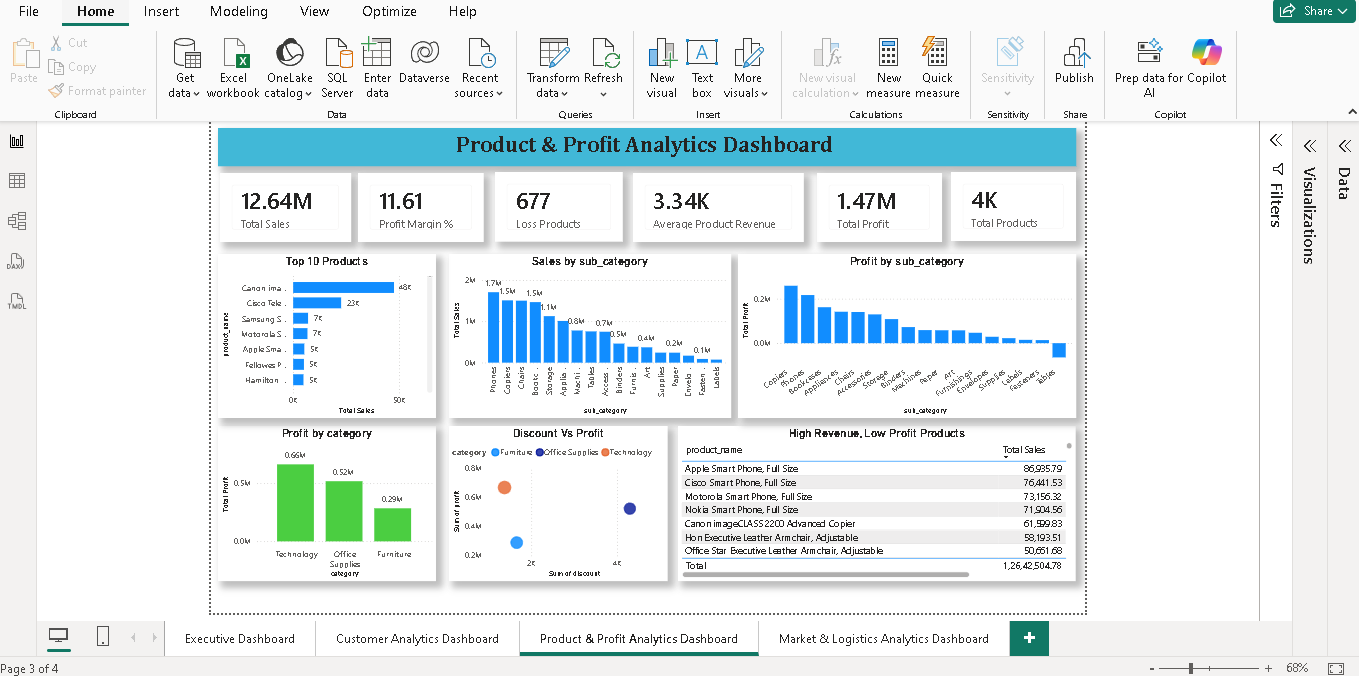

The dashboard page shown, as its layout file describes it:
{"tool":"powerbi","page":{"name":"Product & Profit Analytics Dashboard    ","canvas":[1280,720],"ordinal":2},"visuals":[{"type":"textbox","box":[10.2,10.2,1255.6,55.6],"z":0},{"type":"cardVisual","fields":{"Data":["Measures (2).Total Sales"]},"box":[13.2,76.1,191.7,101],"z":1000},{"type":"cardVisual","fields":{"Data":["Measures (2).Total Profit"]},"box":[886.8,76.1,182.9,101],"z":2000},{"type":"cardVisual","fields":{"Data":["Measures (2).Total Products"]},"box":[1082.9,74.6,182.9,101],"z":3000},{"type":"cardVisual","fields":{"Data":["Measures (2).Profit Margin %"]},"box":[215.1,76.1,184.4,101],"z":4000},{"type":"cardVisual","fields":{"Data":["Measures (2).Loss Products"]},"box":[415.6,74.6,187.3,102.4],"z":5000},{"type":"cardVisual","fields":{"Data":["Measures (2).Average Product Revenue"]},"box":[617.6,76.1,250.2,101],"z":6000},{"type":"clusteredColumnChart","title":"Profit by category","fields":{"Category":["Orders.category"],"Y":["Measures (2).Total Profit"]},"box":[10.2,446.3,319,226.8],"z":7000},{"type":"columnChart","title":"Sales by sub_category","fields":{"Category":["Orders.sub_category"],"Y":["Measures (2).Total Sales"]},"box":[348.3,194.6,412.7,240],"z":8000},{"type":"scatterChart","title":"Discount Vs Profit","fields":{"X":["Sum(Orders.discount)"],"Y":["Sum(Orders.profit)"],"Size":["Sum(Orders.sales)"],"Series":["Orders.category"]},"box":[348.3,446.3,320.5,226.8],"z":9000},{"type":"tableEx","title":"High Revenue, Low Profit Products","fields":{"Values":["Orders.product_name","Measures (2).Total Sales","Measures (2).Total Profit","Measures (2).Profit Margin %"]},"box":[683.4,446.3,582.4,226.8],"z":10000},{"type":"clusteredBarChart","title":"Top 10 Products","fields":{"Category":["Orders.product_name"],"Y":["Measures (2).Total Sales"]},"box":[10.2,194.6,319,240],"z":11000},{"type":"columnChart","title":"Profit by sub_category","fields":{"Y":["Measures (2).Total Profit"],"Category":["Orders.sub_category"]},"box":[771.2,194.6,494.6,240],"z":12000}]}

Visuals, with their boxes on the page's 1280x720 design canvas (x1, y1, x2, y2). These are canvas units, not pixel positions in the 1359x676 screenshot, which may show the page scaled, cropped or inside an application window:
textbox: {"x1": 10, "y1": 10, "x2": 1266, "y2": 66}
cardVisual - Measures (2).Total Sales: {"x1": 13, "y1": 76, "x2": 205, "y2": 177}
cardVisual - Measures (2).Total Profit: {"x1": 887, "y1": 76, "x2": 1070, "y2": 177}
cardVisual - Measures (2).Total Products: {"x1": 1083, "y1": 75, "x2": 1266, "y2": 176}
cardVisual - Measures (2).Profit Margin %: {"x1": 215, "y1": 76, "x2": 400, "y2": 177}
cardVisual - Measures (2).Loss Products: {"x1": 416, "y1": 75, "x2": 603, "y2": 177}
cardVisual - Measures (2).Average Product Revenue: {"x1": 618, "y1": 76, "x2": 868, "y2": 177}
"Profit by category" clusteredColumnChart: {"x1": 10, "y1": 446, "x2": 329, "y2": 673}
"Sales by sub_category" columnChart: {"x1": 348, "y1": 195, "x2": 761, "y2": 435}
"Discount Vs Profit" scatterChart: {"x1": 348, "y1": 446, "x2": 669, "y2": 673}
"High Revenue, Low Profit Products" tableEx: {"x1": 683, "y1": 446, "x2": 1266, "y2": 673}
"Top 10 Products" clusteredBarChart: {"x1": 10, "y1": 195, "x2": 329, "y2": 435}
"Profit by sub_category" columnChart: {"x1": 771, "y1": 195, "x2": 1266, "y2": 435}
